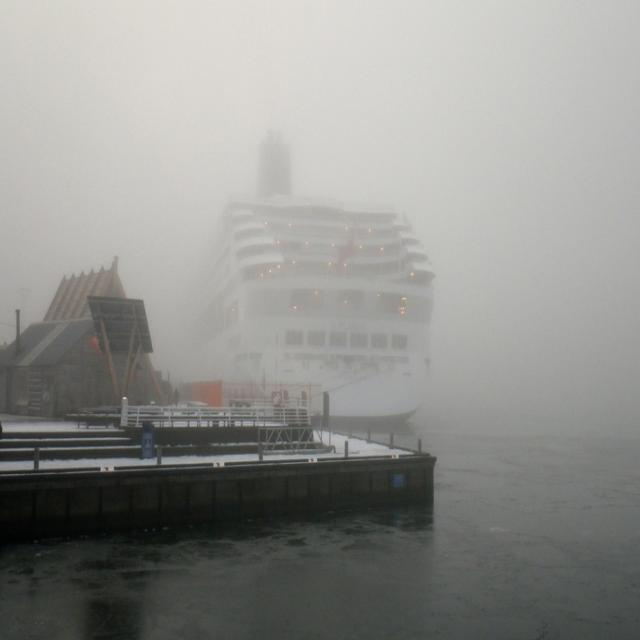passenger ship: (172, 160, 446, 395)
